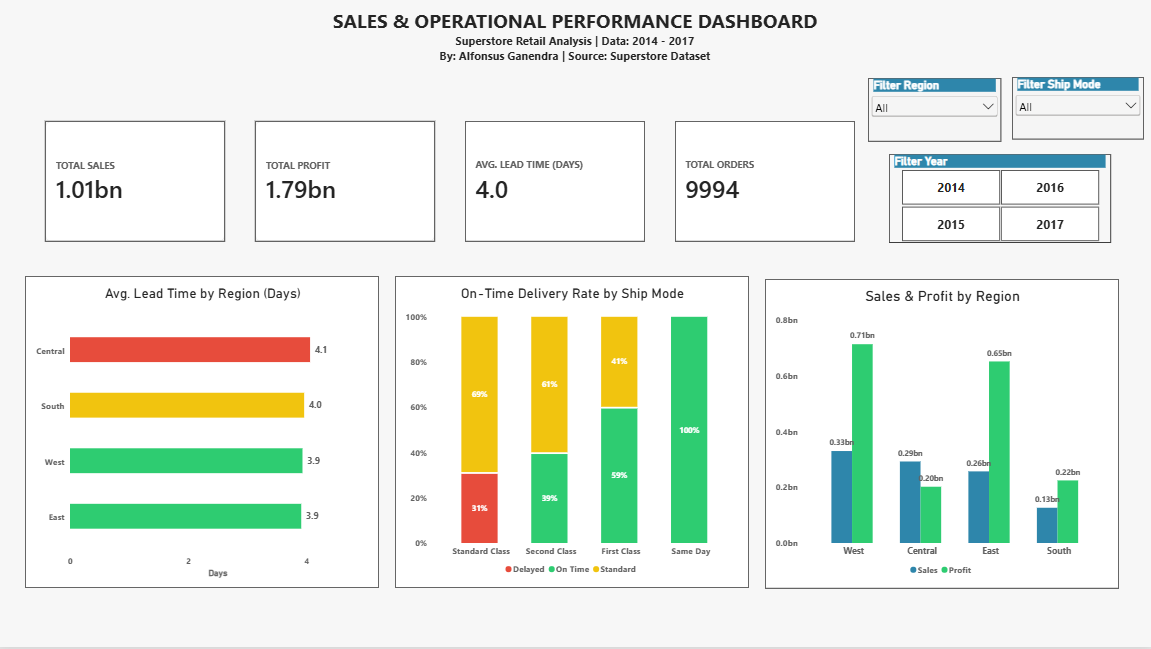

The page's visual inventory and layout, read from the dashboard file:
{"tool":"powerbi","page":{"name":"Page 1","canvas":[1920,1080],"ordinal":0},"visuals":[{"type":"cardVisual","fields":{"Data":["Sum(tSuperstore.Profit)"]},"box":[426.2,204.1,300,201.2],"z":0},{"type":"cardVisual","fields":{"Data":["Sum(tSuperstore.Sales)"]},"box":[76.2,204.1,300,201.2],"z":1000},{"type":"cardVisual","fields":{"Data":["Avg(tSuperstore.Lead Time (Days))"]},"box":[776.2,204.1,300,201.2],"z":2000},{"type":"cardVisual","fields":{"Data":["CountNonNull(tSuperstore.Order ID)"]},"box":[1126.2,204.1,300,201.2],"z":3000},{"type":"clusteredColumnChart","title":"Sales & Profit by Region","fields":{"Category":["tSuperstore.Region"],"Y":["Sum(tSuperstore.Sales)","Sum(tSuperstore.Profit)"]},"box":[1276,466,590,516],"z":4000},{"type":"hundredPercentStackedColumnChart","title":"On-Time Delivery Rate by Ship Mode","fields":{"Category":["tSuperstore.Ship Mode"],"Series":["tSuperstore.Delivery Status"],"Y":["CountNonNull(tSuperstore.Order ID)"]},"box":[660,462,590,520],"z":5000},{"type":"clusteredBarChart","title":"Avg. Lead Time by Region (Days)","fields":{"Category":["tSuperstore.Region"],"Y":["Avg(tSuperstore.Lead Time (Days))"]},"box":[44,462,590,520],"z":6000},{"type":"textbox","box":[0,13.3,1920,121.7],"z":7000},{"type":"slicer","fields":{"Values":["tRegion.Region"]},"box":[1448,132,222,106],"z":8000},{"type":"slicer","fields":{"Values":["tSuperstore.Ship Mode"]},"box":[1688,130,220,104],"z":9000},{"type":"slicer","fields":{"Values":["tSuperstore.Year"]},"box":[1484,258,370,148],"z":10000}]}

Visuals, with their boxes in screenshot pixels (x1, y1, x2, y2), scaled from the page's 1920x1080 canvas onto the 1151x649 screenshot:
cardVisual - Sum(tSuperstore.Profit): left=255, top=123, right=435, bottom=244
cardVisual - Sum(tSuperstore.Sales): left=46, top=123, right=226, bottom=244
cardVisual - Avg(tSuperstore.Lead Time (Days)): left=465, top=123, right=645, bottom=244
cardVisual - CountNonNull(tSuperstore.Order ID): left=675, top=123, right=855, bottom=244
"Sales & Profit by Region" clusteredColumnChart: left=765, top=280, right=1119, bottom=590
"On-Time Delivery Rate by Ship Mode" hundredPercentStackedColumnChart: left=396, top=278, right=749, bottom=590
"Avg. Lead Time by Region (Days)" clusteredBarChart: left=26, top=278, right=380, bottom=590
textbox: left=0, top=8, right=1150, bottom=81
slicer - tRegion.Region: left=868, top=79, right=1001, bottom=143
slicer - tSuperstore.Ship Mode: left=1012, top=78, right=1144, bottom=141
slicer - tSuperstore.Year: left=890, top=155, right=1111, bottom=244
